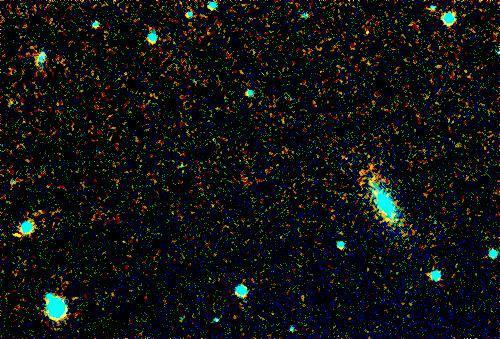star: (0, 220, 30, 250)
